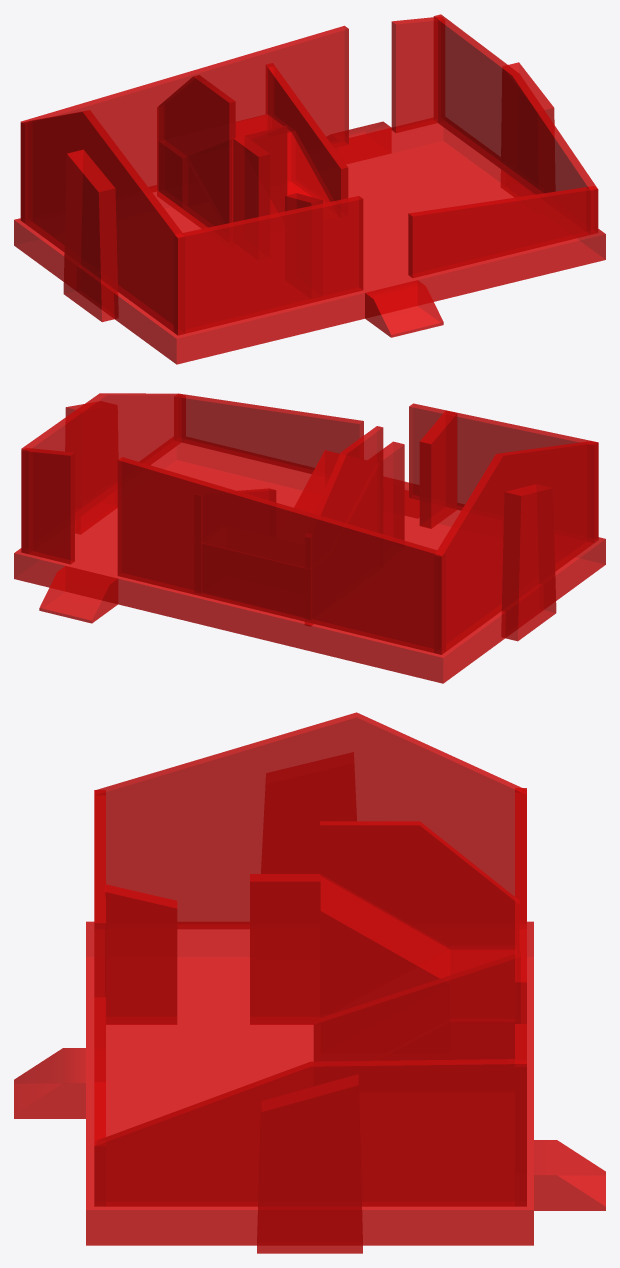
File: SM_Bld_TownHouse_Rubble_02_Collision.fbx
The picture shows the model from 3 angles, top to bottom: view 1: azimuth 30°, elevation 25°; view 2: azimuth 150°, elevation 25°; view 3: azimuth 270°, elevation 25°; orthographic projection. The views are drawn at different scales.
Parts seen in each view (by area): view 1: SM_Bld_TownHouse_Rubble_02_Collision; view 2: SM_Bld_TownHouse_Rubble_02_Collision; view 3: SM_Bld_TownHouse_Rubble_02_Collision.
Part boxes in pixels (x1,y1,x2,y2): SM_Bld_TownHouse_Rubble_02_Collision: (14, 14, 605, 364); SM_Bld_TownHouse_Rubble_02_Collision: (14, 393, 605, 683); SM_Bld_TownHouse_Rubble_02_Collision: (14, 712, 605, 1253).
Size of the model in its own units: 1262 by 478 by 1035.
